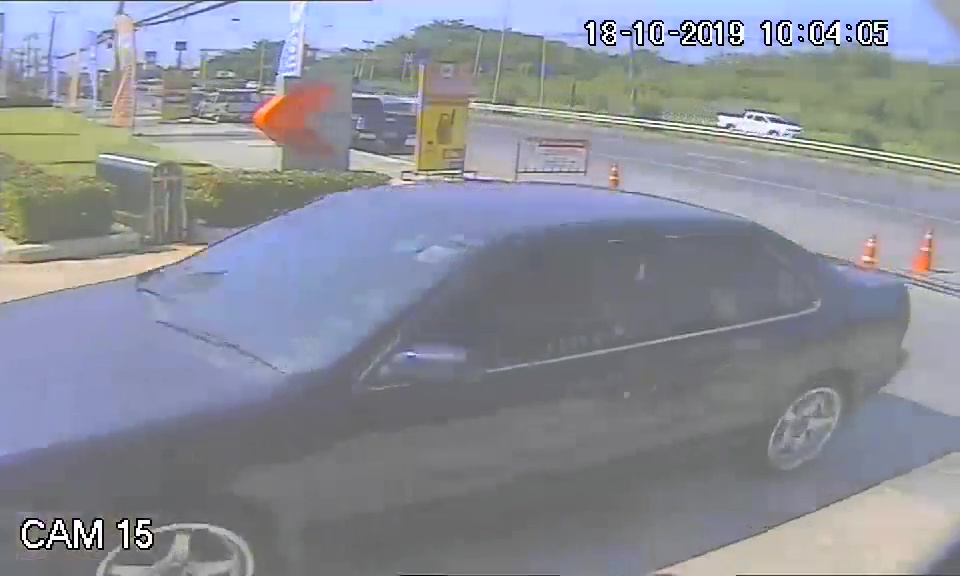sedan: (2, 182, 913, 561)
